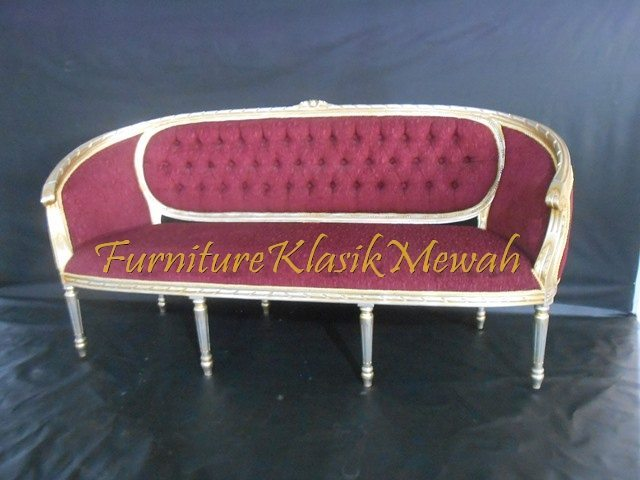Carving Chair: (47, 102, 569, 380)
